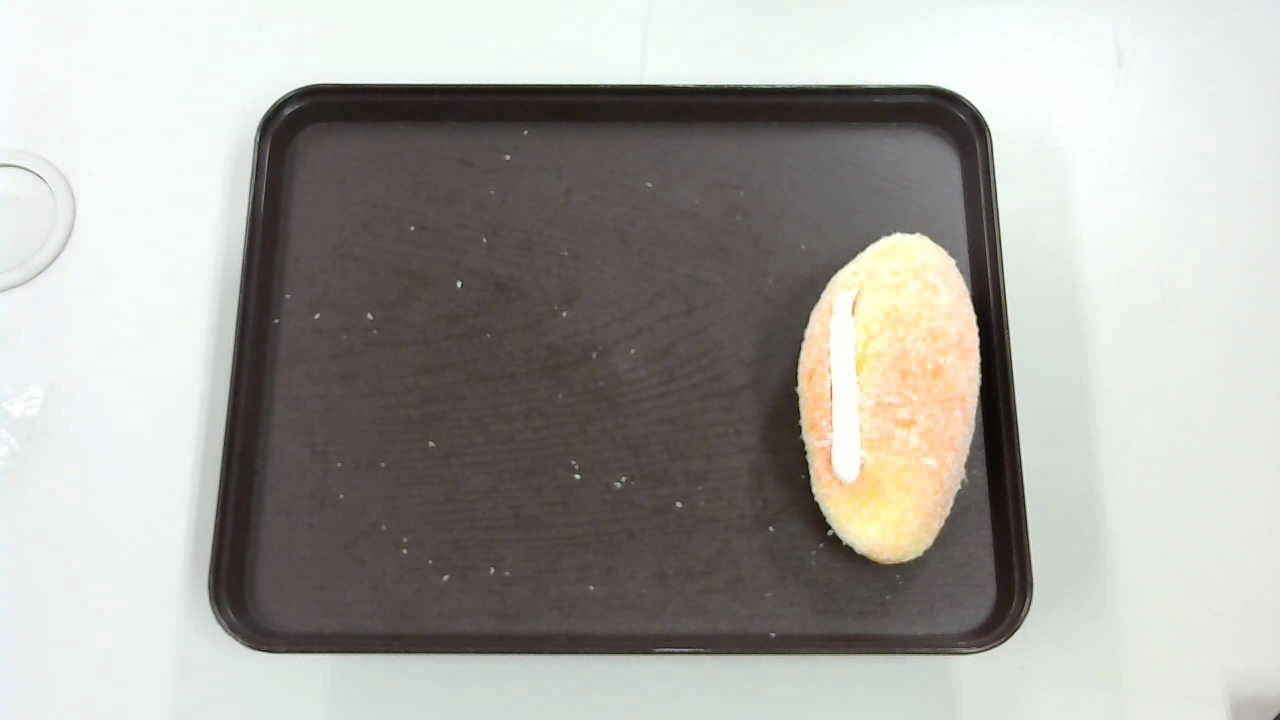coconut: (796, 231, 982, 564)
